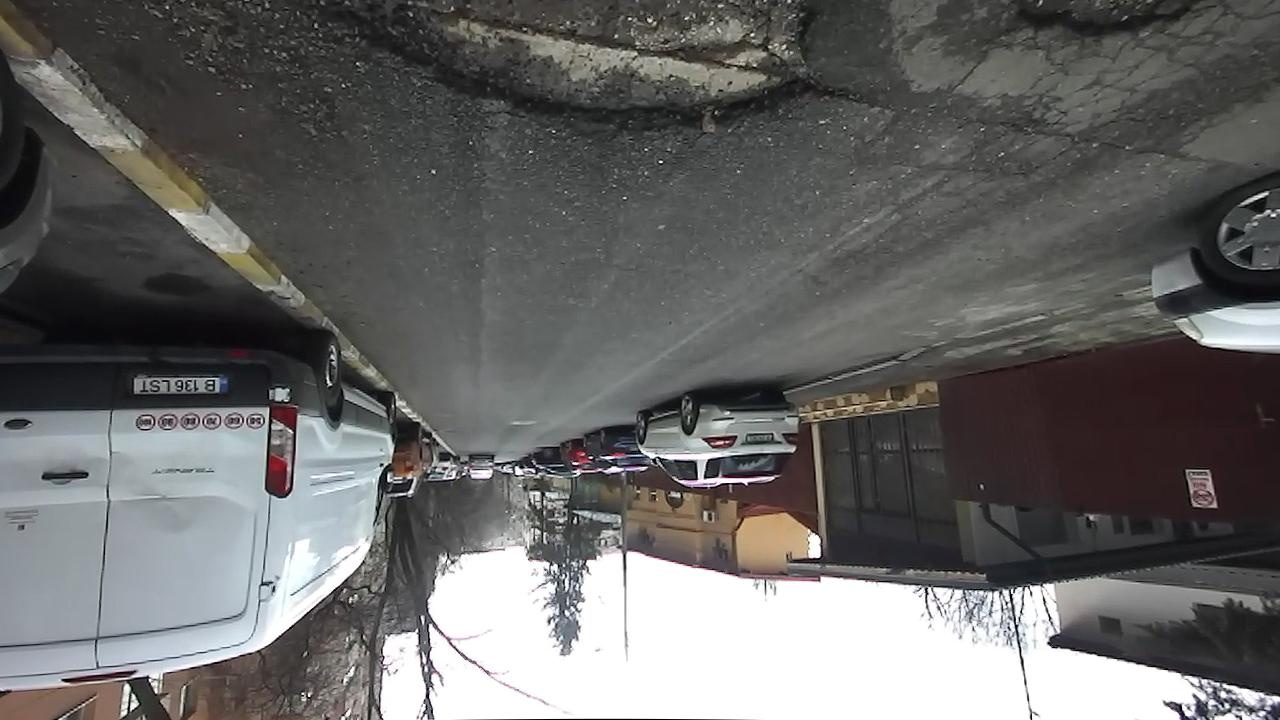pothole: (290, 0, 842, 148), (983, 0, 1202, 40)
